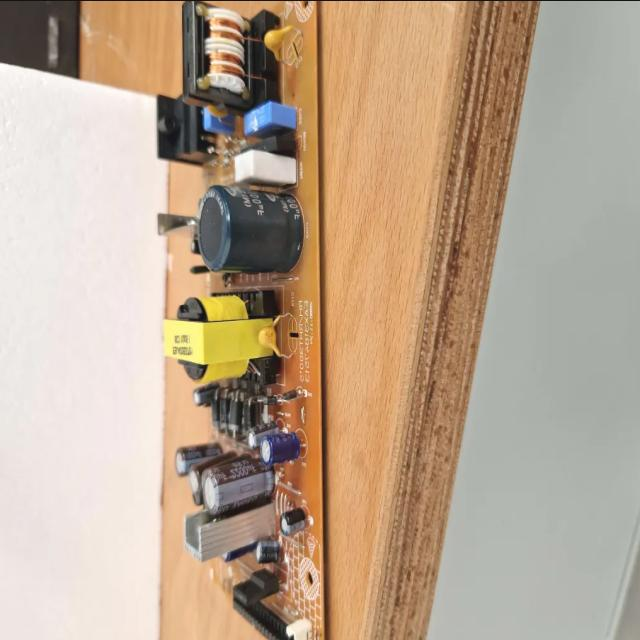C: (198, 184, 302, 268), (202, 458, 274, 513), (175, 442, 221, 476), (189, 452, 229, 489), (262, 432, 300, 462), (279, 508, 305, 534), (193, 384, 220, 406), (256, 540, 278, 562), (190, 238, 200, 254)
E: (258, 314, 282, 356), (265, 26, 293, 61)
F: (157, 93, 213, 161)
